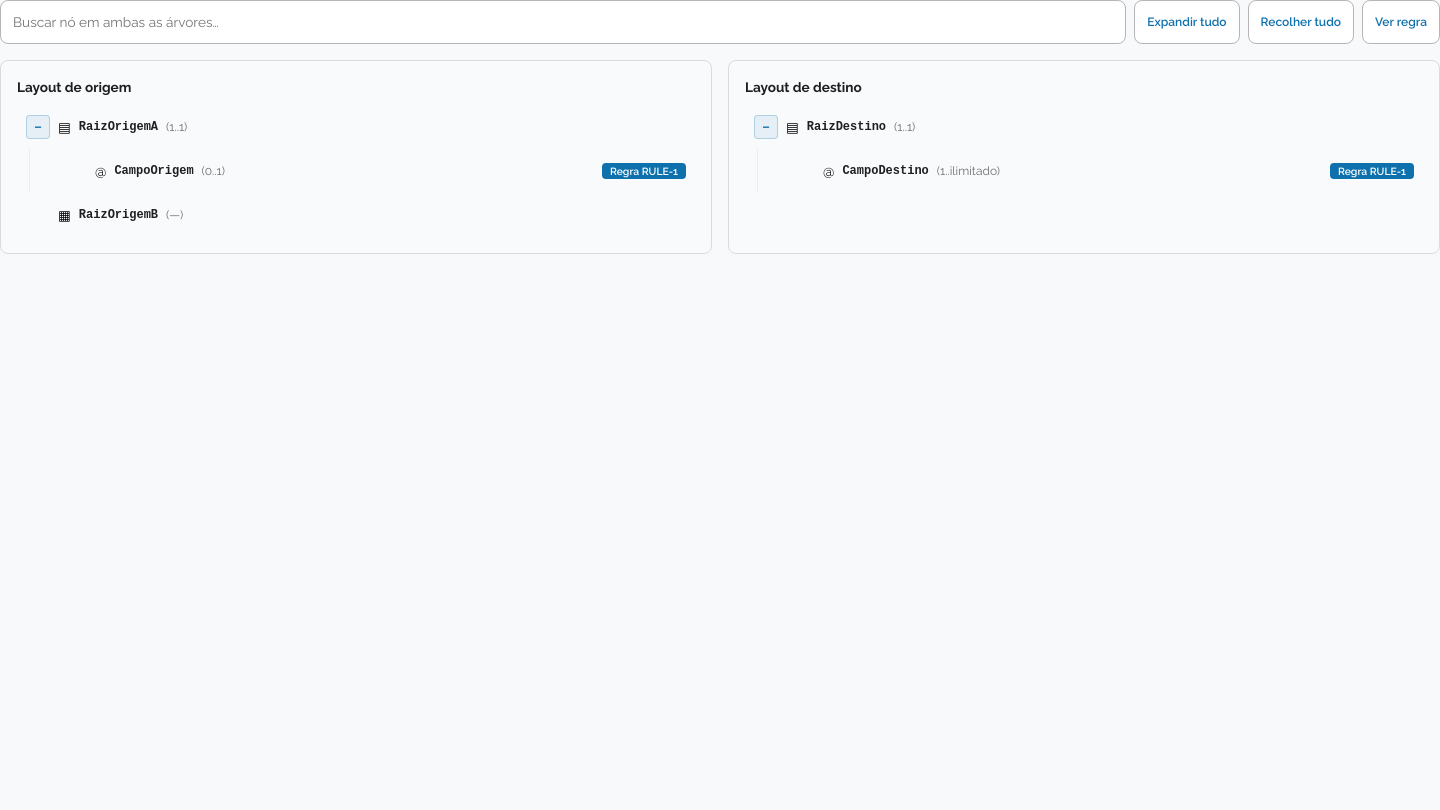
Scenario: MappingLayoutTreeView › fecha o painel de detalhe da regra pelo botão de fechar e por Esc
Click the text "CampoOrigem" at (154, 171), box 114,164 -> 194,178
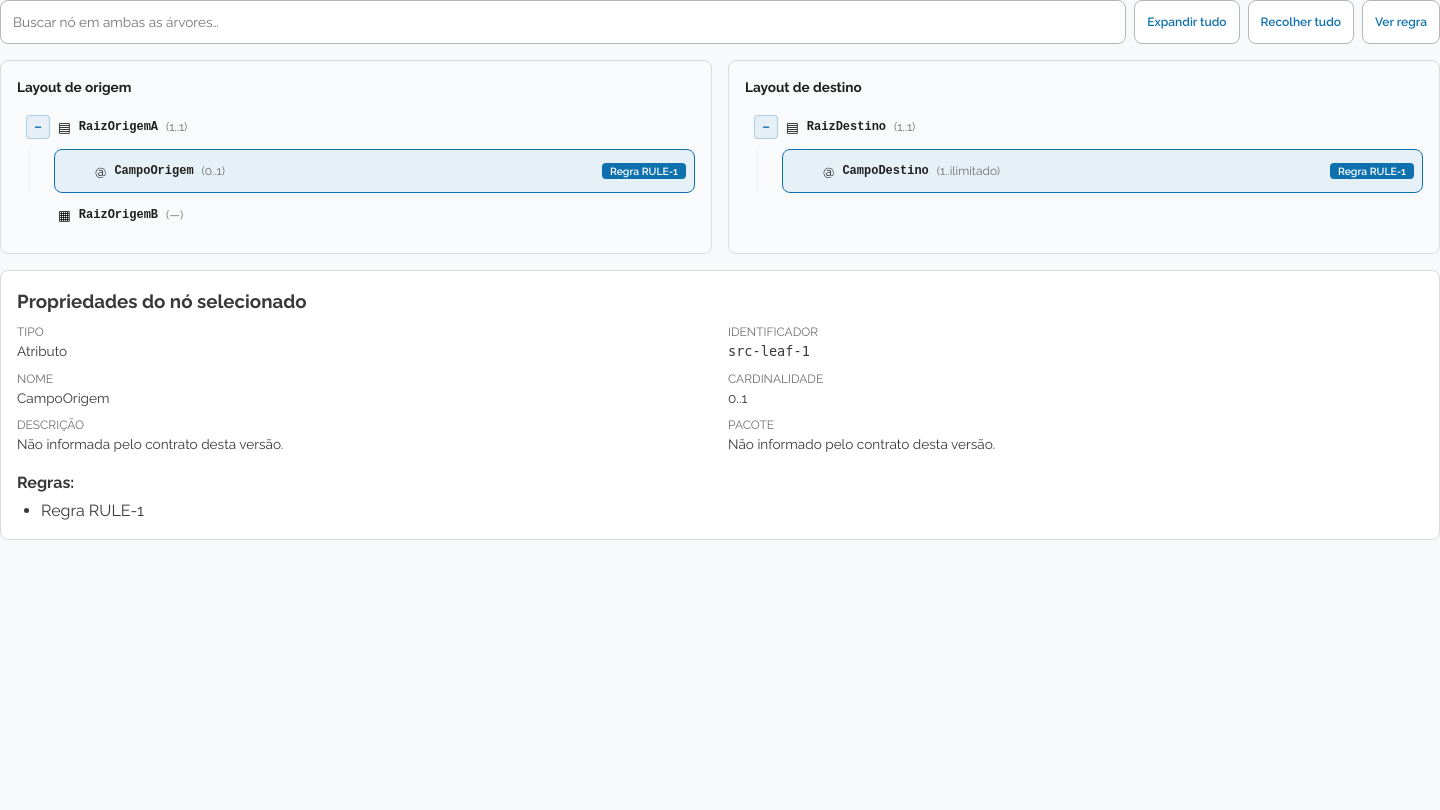
Click the button "Ver regra" at (1401, 22), box 1362,0 -> 1439,44
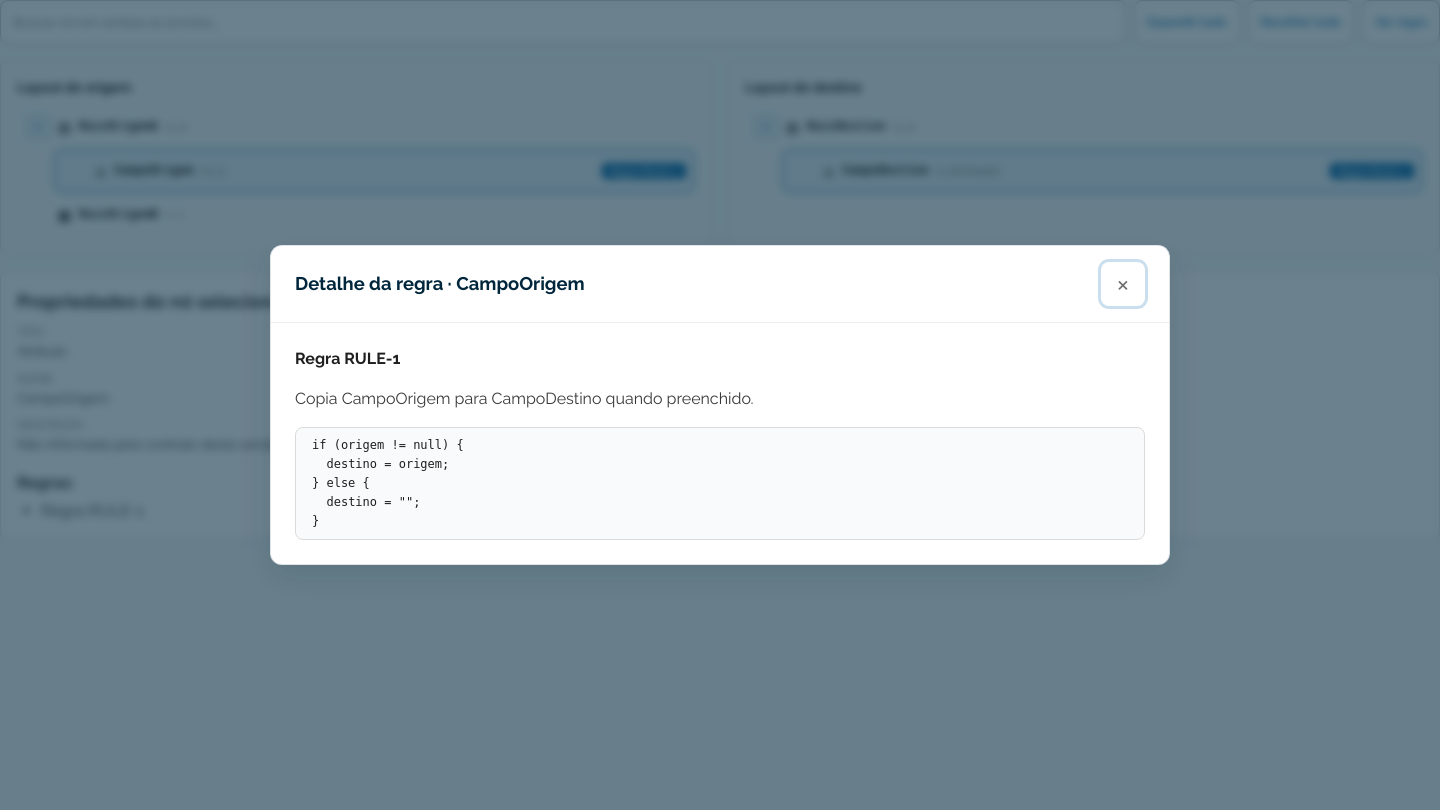
Expected: the dialog is shown, 270,245 -> 1170,565
Click the button named "Fechar janela" at (1123, 284), box 1101,262 -> 1145,306
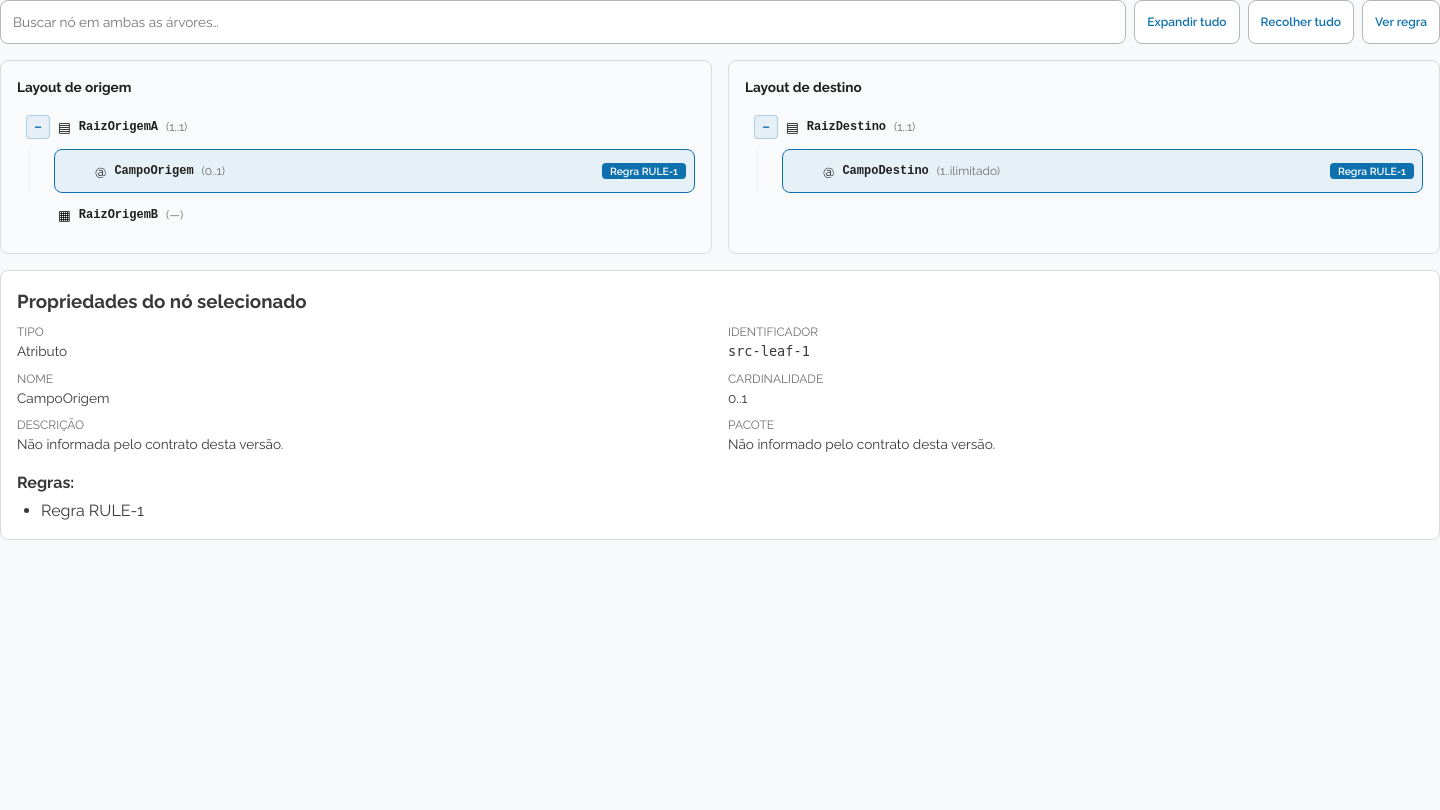
Expected: the dialog is gone
Click the button "Ver regra" at (1401, 22), box 1362,0 -> 1439,44
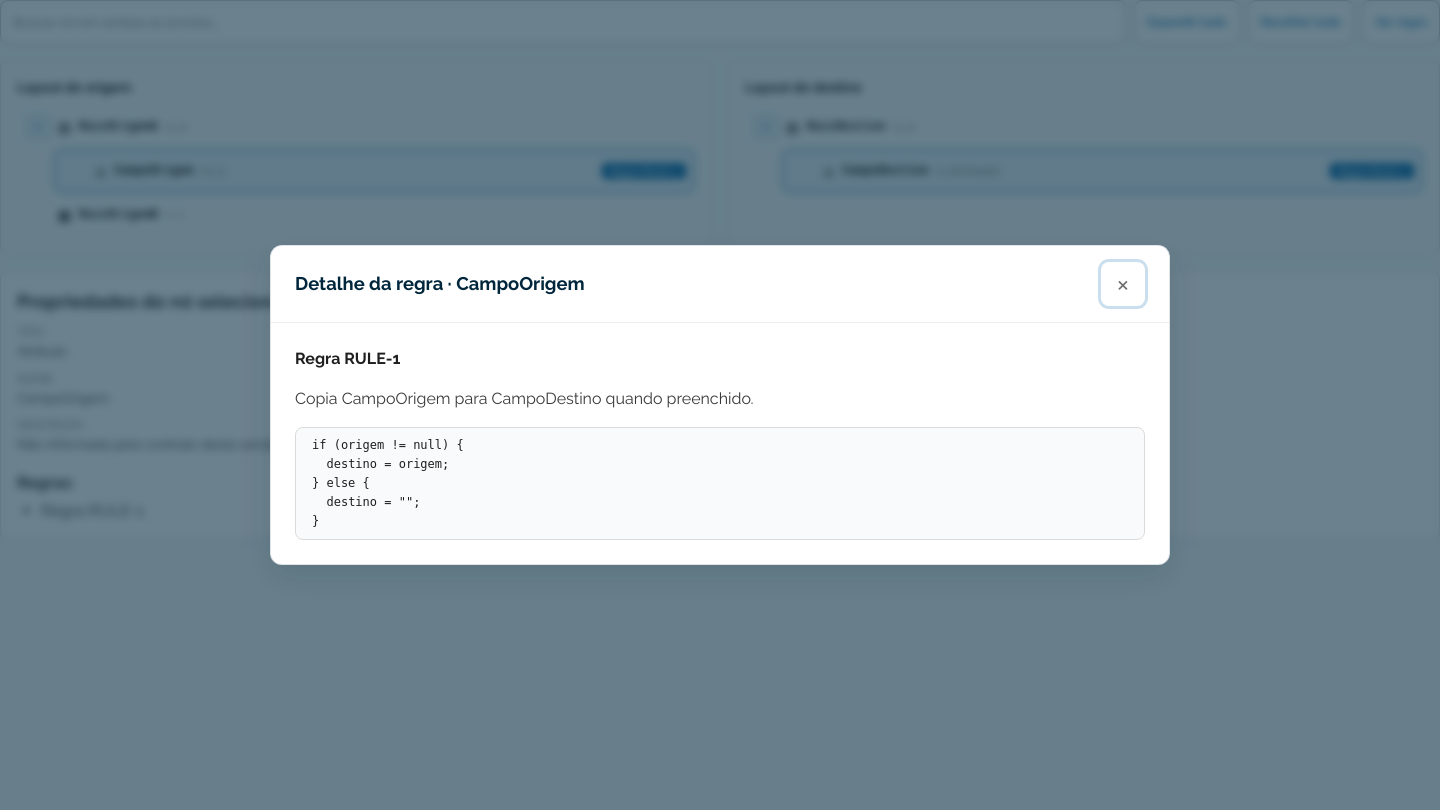
Expected: the dialog is shown, 270,245 -> 1170,565
Press Escape
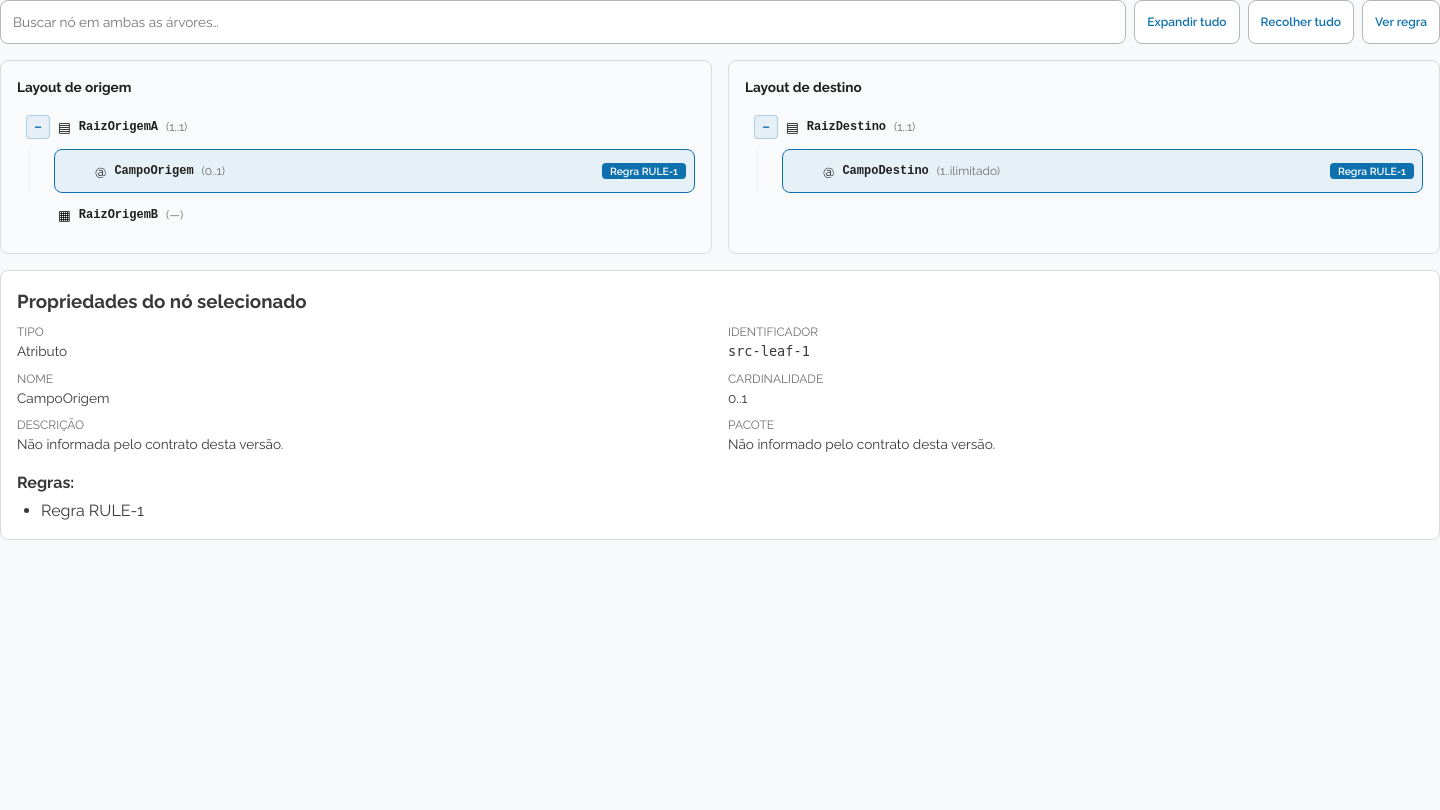
Expected: the dialog is gone
